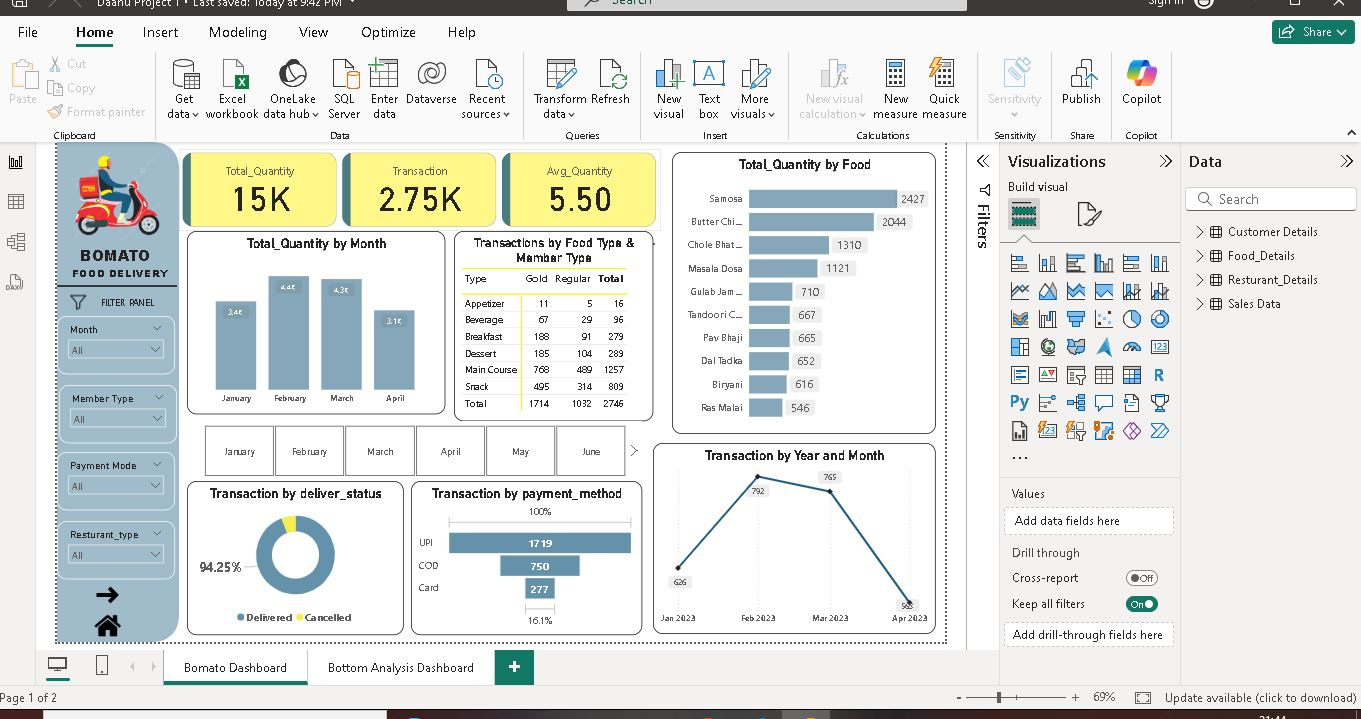

What the dashboard file says about the page in this screenshot:
{"tool":"powerbi","page":{"name":"Bomato Dashboard","canvas":[1280,720],"ordinal":0},"visuals":[{"type":"shape","box":[0,0,175.7,720],"z":0},{"type":"image","box":[10.1,0,154.1,154.1],"z":1000},{"type":"textbox","box":[2.9,144,175.7,63.4],"z":2000},{"type":"shape","box":[0,169.9,172.8,74.9],"z":3000},{"type":"cardVisual","fields":{"Data":["Sales Data.Total_Quantity","Sales Data.Transaction","Sales Data.Avg_Quantity"]},"box":[176.4,10.1,693.8,117.6],"z":4000},{"type":"clusteredColumnChart","fields":{"Category":["Sales Data.orderDate.Variation.Date Hierarchy.Month"],"Y":["Sales Data.Total_Quantity"]},"box":[187.2,128.2,371.5,263.5],"z":5000},{"type":"pivotTable","title":"Transactions by Food Type & Member Type","fields":{"Values":["Sales Data.Transaction"],"Columns":["Customer Details.member_Type"],"Rows":["Food_Details.Type"]},"box":[571.7,128.2,286.6,273.6],"z":6000},{"type":"donutChart","fields":{"Y":["Sales Data.Transaction"],"Category":["Sales Data.deliver_status"]},"box":[187.2,488.2,312.5,221.8],"z":7000},{"type":"funnel","fields":{"Category":["Sales Data.payment_method"],"Y":["Sales Data.Transaction"]},"box":[509.8,488.2,332.6,221.8],"z":8000},{"type":"clusteredBarChart","fields":{"Category":["Food_Details.Food"],"Y":["Sales Data.Total_Quantity"]},"box":[885.6,14.4,380.2,406.1],"z":9000},{"type":"lineChart","fields":{"Y":["Sales Data.Transaction"],"Category":["Sales Data.orderDate.Variation.Date Hierarchy.Year","Sales Data.orderDate.Variation.Date Hierarchy.Month"]},"box":[858.4,433.4,406.5,275.5],"z":10000},{"type":"slicer","fields":{"Values":["Sales Data.orderDate.Variation.Date Hierarchy.Month"]},"box":[0,250.6,169.9,83.5],"z":11000},{"type":"slicer","fields":{"Values":["Customer Details.member_Type"]},"box":[2.9,349.9,169.9,83.5],"z":12000},{"type":"slicer","fields":{"Values":["Sales Data.payment_method"]},"box":[0,446.4,169.9,83.5],"z":13000},{"type":"slicer","fields":{"Values":["Resturant_Details.Resturant_type"]},"box":[0,545.8,169.9,83.5],"z":14000},{"type":"slicer","fields":{"Values":["Sales Data.orderDate.Variation.Date Hierarchy.Month"]},"box":[187.2,401.8,655.2,86.4],"z":15000},{"type":"image","box":[10.1,214.6,40.3,33.1],"z":16000},{"type":"textbox","box":[46.1,217.4,110.9,28.8],"z":17000},{"type":"image","box":[46.1,672.5,53.3,47.5],"z":18000},{"type":"image","box":[51.8,629.3,41.8,46.1],"z":19000}]}

Visuals, with their boxes on the page's 1280x720 design canvas (x1, y1, x2, y2). These are canvas units, not pixel positions in the 1361x719 screenshot, which may show the page scaled, cropped or inside an application window:
shape: (0,0,176,720)
image: (10,0,164,154)
textbox: (3,144,179,207)
shape: (0,170,173,245)
cardVisual - Sales Data.Total_Quantity x Sales Data.Transaction: (176,10,870,128)
clusteredColumnChart - Sales Data.orderDate.Variation.Date Hierarchy.Month x Sales Data.Total_Quantity: (187,128,559,392)
"Transactions by Food Type & Member Type" pivotTable: (572,128,858,402)
donutChart - Sales Data.Transaction x Sales Data.deliver_status: (187,488,500,710)
funnel - Sales Data.payment_method x Sales Data.Transaction: (510,488,842,710)
clusteredBarChart - Food_Details.Food x Sales Data.Total_Quantity: (886,14,1266,420)
lineChart - Sales Data.Transaction x Sales Data.orderDate.Variation.Date Hierarchy.Year: (858,433,1265,709)
slicer - Sales Data.orderDate.Variation.Date Hierarchy.Month: (0,251,170,334)
slicer - Customer Details.member_Type: (3,350,173,433)
slicer - Sales Data.payment_method: (0,446,170,530)
slicer - Resturant_Details.Resturant_type: (0,546,170,629)
slicer - Sales Data.orderDate.Variation.Date Hierarchy.Month: (187,402,842,488)
image: (10,215,50,248)
textbox: (46,217,157,246)
image: (46,672,99,720)
image: (52,629,94,675)
